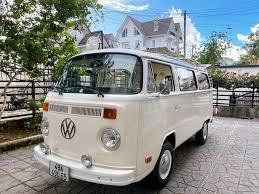volkswagen: (59, 116, 77, 139)
